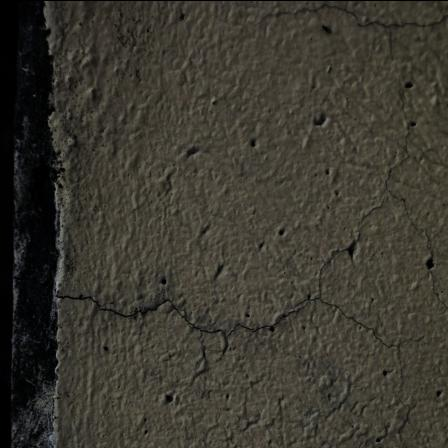crack: (44, 32, 448, 448), (258, 0, 426, 30)
